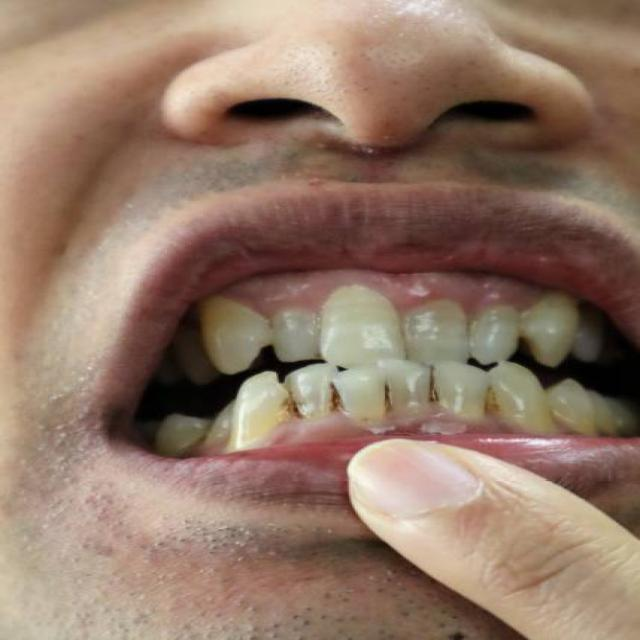calculus: (196, 303, 272, 337), (173, 424, 279, 447), (526, 403, 594, 438), (523, 296, 573, 332), (332, 286, 382, 320), (281, 311, 335, 338), (368, 378, 402, 418), (415, 372, 448, 413), (473, 386, 502, 432), (408, 300, 458, 326), (465, 303, 512, 330), (279, 386, 310, 426), (319, 383, 350, 417)
